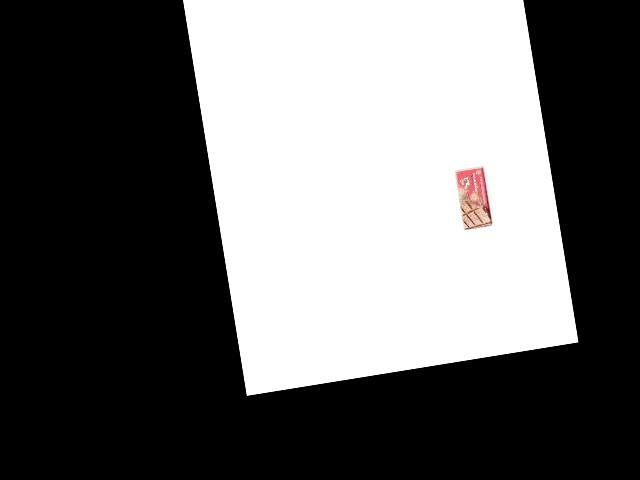chocolate: (453, 165, 494, 231)
